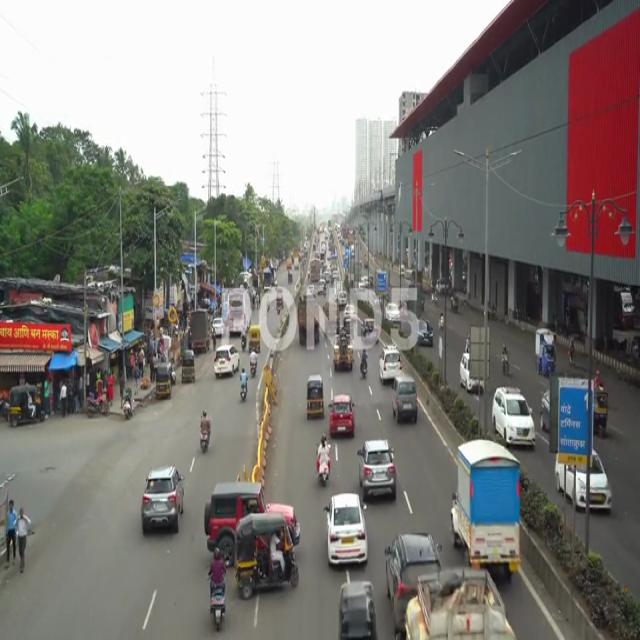car: (326, 488, 368, 566), (142, 462, 186, 534), (492, 385, 537, 449), (358, 440, 398, 501), (329, 393, 355, 439), (394, 378, 419, 420)
motorbike: (205, 543, 235, 635), (17, 496, 32, 582), (314, 436, 332, 486), (197, 398, 210, 459)
rikshaw: (337, 573, 377, 640), (304, 374, 326, 426)
truck: (446, 435, 531, 586)
